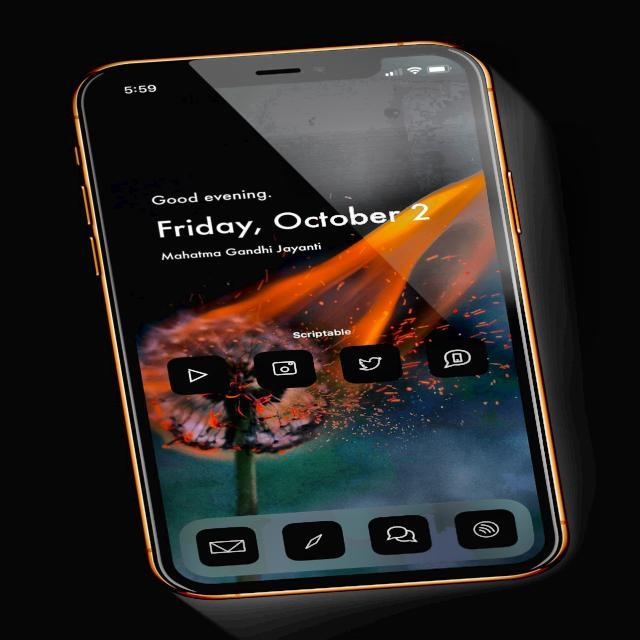Phone: (70, 37, 576, 600)
